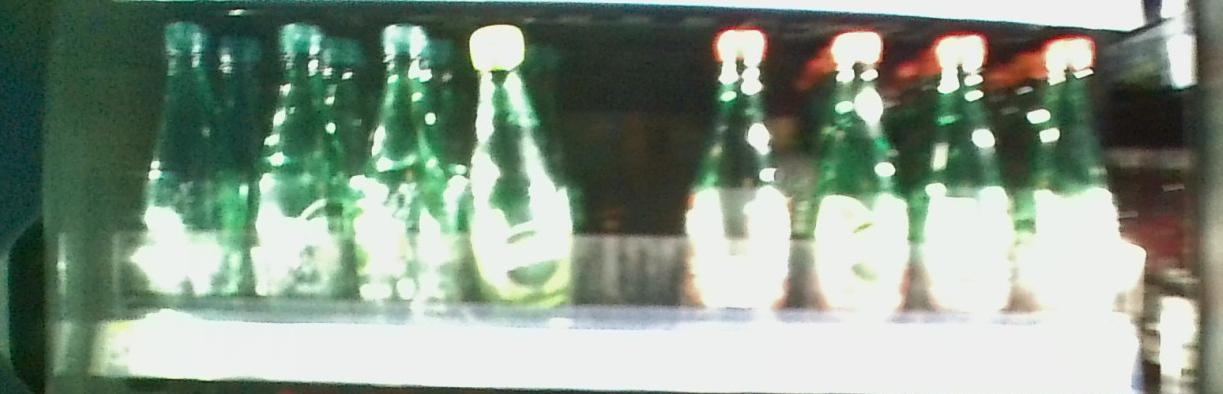bottle: (461, 26, 576, 316), (142, 13, 246, 319), (683, 25, 793, 313), (920, 34, 1021, 318), (1030, 32, 1129, 321), (814, 32, 913, 319), (255, 20, 349, 314), (361, 14, 455, 307)
